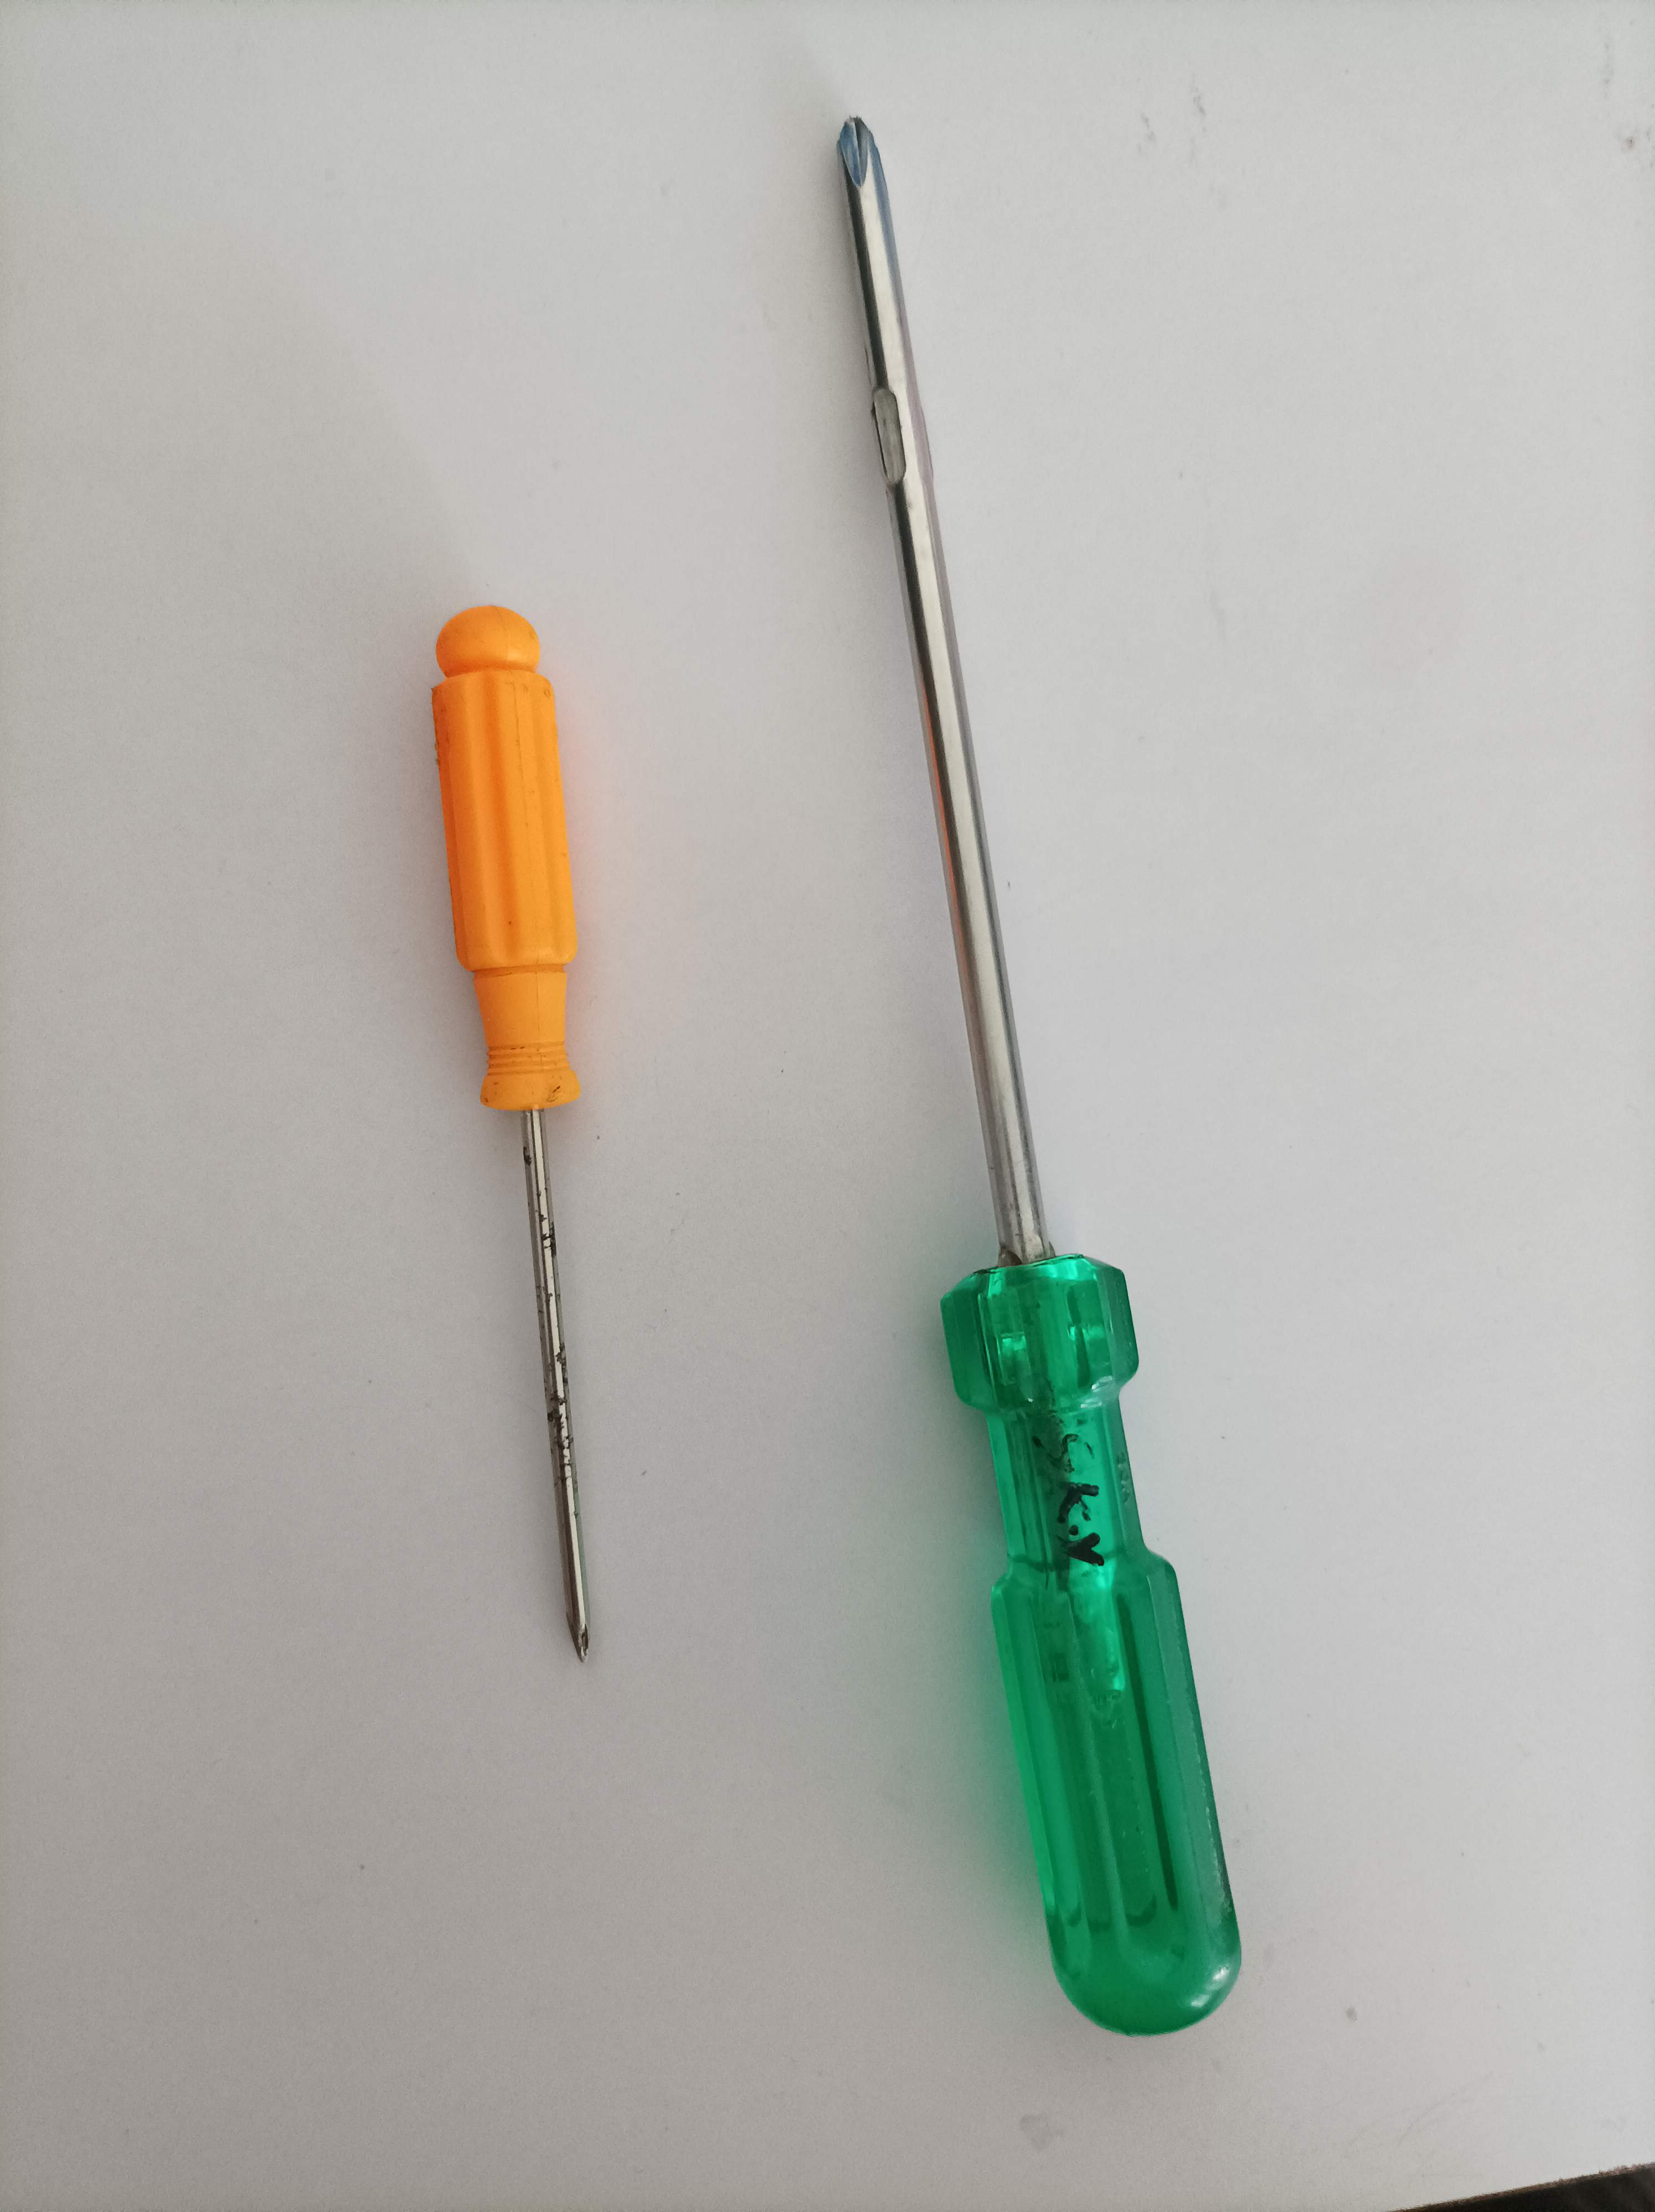screwdriver: (819, 82, 1259, 2059), (410, 589, 657, 1685)
